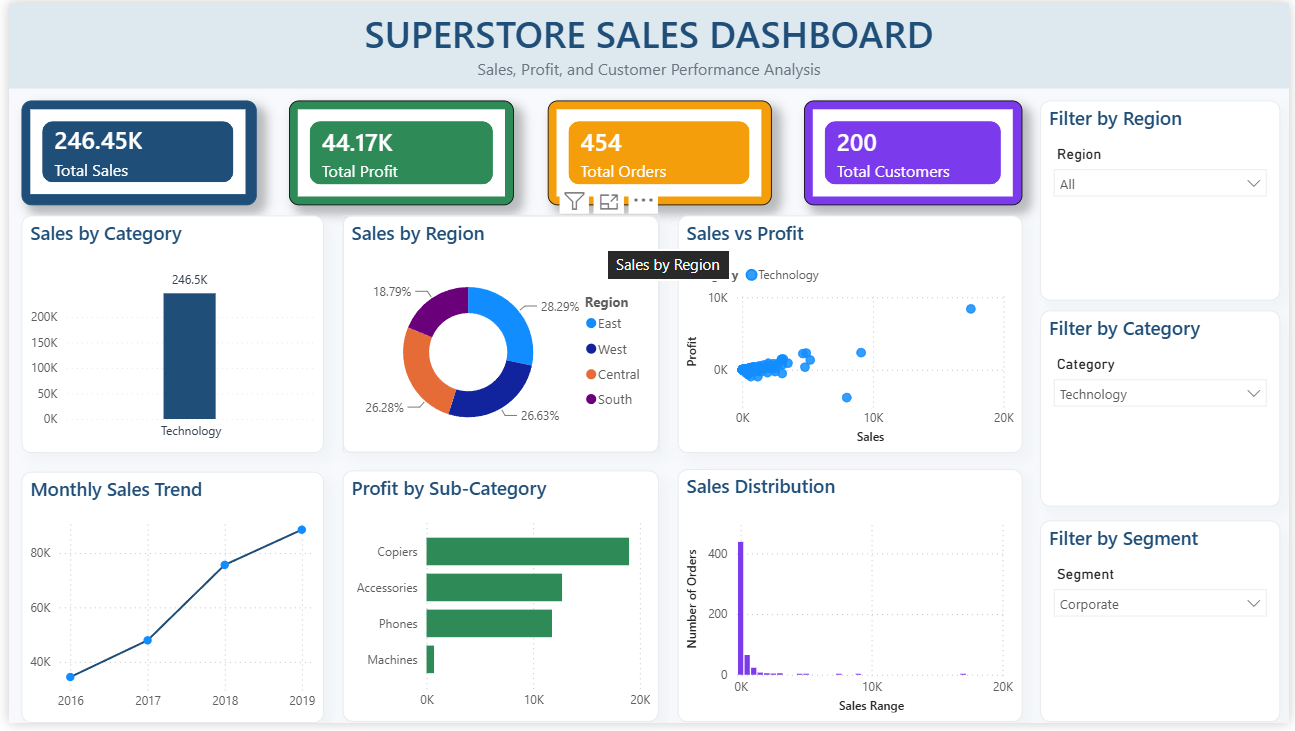

The dashboard page shown, as its layout file describes it:
{"tool":"powerbi","page":{"name":"Page 1","canvas":[1280,720],"ordinal":0},"visuals":[{"type":"cardVisual","title":"Total Sales","fields":{"Data":["Orders.Total Sales"]},"box":[12.5,97.5,235,105],"z":0},{"type":"cardVisual","title":"Total Customers","fields":{"Data":["Orders.Total Customers"]},"box":[795,97.5,218.8,105],"z":1000},{"type":"cardVisual","title":"Total Orders","fields":{"Data":["Orders.Total Orders"]},"box":[538.3,97.5,223.8,105],"z":2000},{"type":"cardVisual","title":"Total Profit","fields":{"Data":["Orders.Total Profit"]},"box":[280.4,97.5,225,105],"z":3000},{"type":"clusteredColumnChart","title":"Sales by Category","fields":{"Category":["Orders.Category"],"Y":["Sum(Orders.Sales)"]},"box":[12.5,212.5,302.5,237.5],"z":4000},{"type":"textbox","box":[0,0,1280,85.7],"z":5000},{"type":"lineChart","title":"Monthly Sales Trend","fields":{"Category":["Orders.Month Start.Variation.Date Hierarchy.Year","Orders.Month Start.Variation.Date Hierarchy.Quarter","Orders.Month Start.Variation.Date Hierarchy.Month","Orders.Month Start.Variation.Date Hierarchy.Day"],"Y":["Sum(Orders.Sales)"]},"box":[12.5,468.8,302.5,251.2],"z":6000},{"type":"donutChart","title":"Sales by Region","fields":{"Category":["Orders.Region"],"Y":["Sum(Orders.Sales)"]},"box":[333.8,212.5,316.2,237.5],"z":7000},{"type":"clusteredBarChart","title":"Profit by Sub-Category","fields":{"Category":["Orders.Sub-Category"],"Y":["Sum(Orders.Profit)"]},"box":[333.8,467.5,316.2,251.2],"z":8000},{"type":"scatterChart","title":"Sales vs Profit","fields":{"X":["Sum(Orders.Sales)"],"Y":["Sum(Orders.Profit)"],"Series":["Orders.Category"],"Category":["Orders.Row ID"]},"box":[668.8,212.5,345,237.5],"z":9000},{"type":"clusteredColumnChart","title":"Sales Distribution","fields":{"Category":["Orders.Sales (bins)"],"Y":["CountNonNull(Orders.Row ID)"]},"box":[668.8,466.2,345,252.5],"z":10000},{"type":"slicer","title":"Filter by Region","fields":{"Values":["Orders.Region"]},"box":[1031.2,97.5,240,200],"z":11000},{"type":"slicer","title":"Filter by Category","fields":{"Values":["Orders.Category"]},"box":[1031.2,307.5,240,196.2],"z":12000},{"type":"slicer","title":"Filter by Segment","fields":{"Values":["Orders.Segment"]},"box":[1031.2,517.5,240,201.2],"z":13000}]}

Visuals, with their boxes in screenshot pixels (x1, y1, x2, y2), scaled from the page's 1280x720 canvas onto the 1295x731 screenshot:
"Total Sales" cardVisual: box=[13, 99, 250, 206]
"Total Customers" cardVisual: box=[804, 99, 1026, 206]
"Total Orders" cardVisual: box=[545, 99, 771, 206]
"Total Profit" cardVisual: box=[284, 99, 511, 206]
"Sales by Category" clusteredColumnChart: box=[13, 216, 319, 457]
textbox: box=[0, 0, 1294, 87]
"Monthly Sales Trend" lineChart: box=[13, 476, 319, 730]
"Sales by Region" donutChart: box=[338, 216, 658, 457]
"Profit by Sub-Category" clusteredBarChart: box=[338, 475, 658, 730]
"Sales vs Profit" scatterChart: box=[677, 216, 1026, 457]
"Sales Distribution" clusteredColumnChart: box=[677, 473, 1026, 730]
"Filter by Region" slicer: box=[1043, 99, 1286, 302]
"Filter by Category" slicer: box=[1043, 312, 1286, 511]
"Filter by Segment" slicer: box=[1043, 525, 1286, 730]
